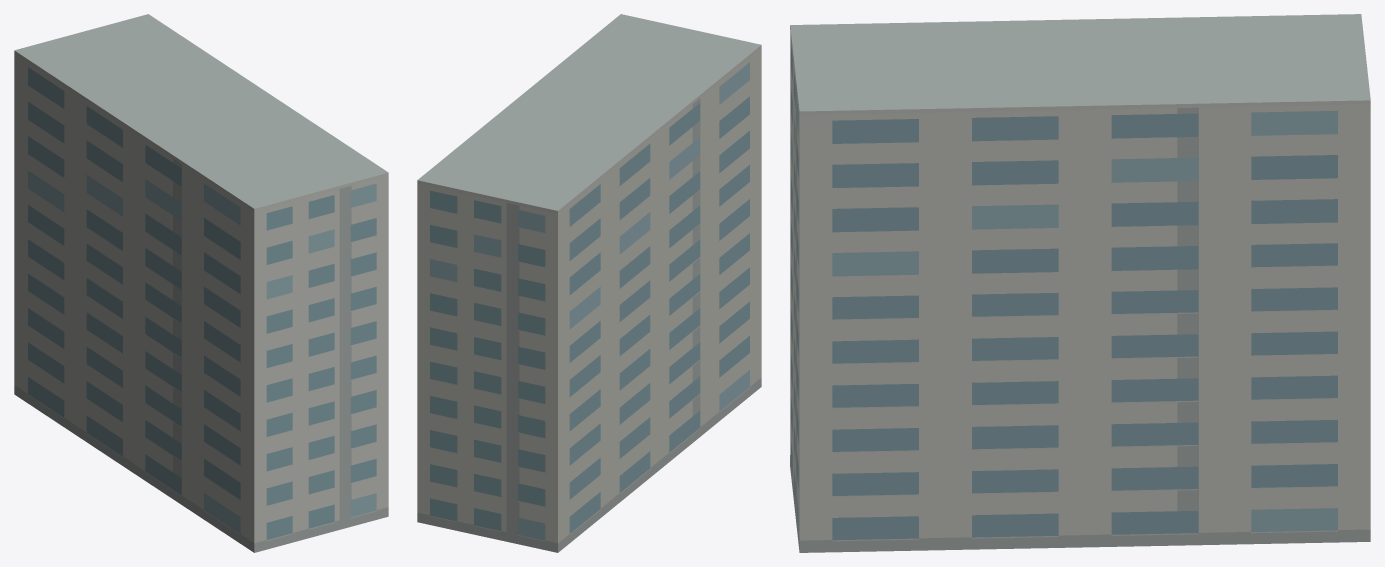
Rendered from residential-5851b5c9-ab47-43c1-888d-a8d79a47dcfe.glb.
3 renders of one model, left to right at view 1: azimuth 30°, elevation 25°; view 2: azimuth 150°, elevation 25°; view 3: azimuth 270°, elevation 25°, orthographic. The views are drawn at different scales.
Parts seen in each view (by area): view 1: residential-5851b5c9-ab47-43c1-888d-a8d79a47dcfe.tmp; view 2: residential-5851b5c9-ab47-43c1-888d-a8d79a47dcfe.tmp; view 3: residential-5851b5c9-ab47-43c1-888d-a8d79a47dcfe.tmp.
Part boxes in pixels (<box>): residential-5851b5c9-ab47-43c1-888d-a8d79a47dcfe.tmp: <box>14,14,388,552</box>; residential-5851b5c9-ab47-43c1-888d-a8d79a47dcfe.tmp: <box>417,14,761,552</box>; residential-5851b5c9-ab47-43c1-888d-a8d79a47dcfe.tmp: <box>790,14,1370,552</box>.
Size of the model in its own units: 12.79 by 27 by 32.19.
